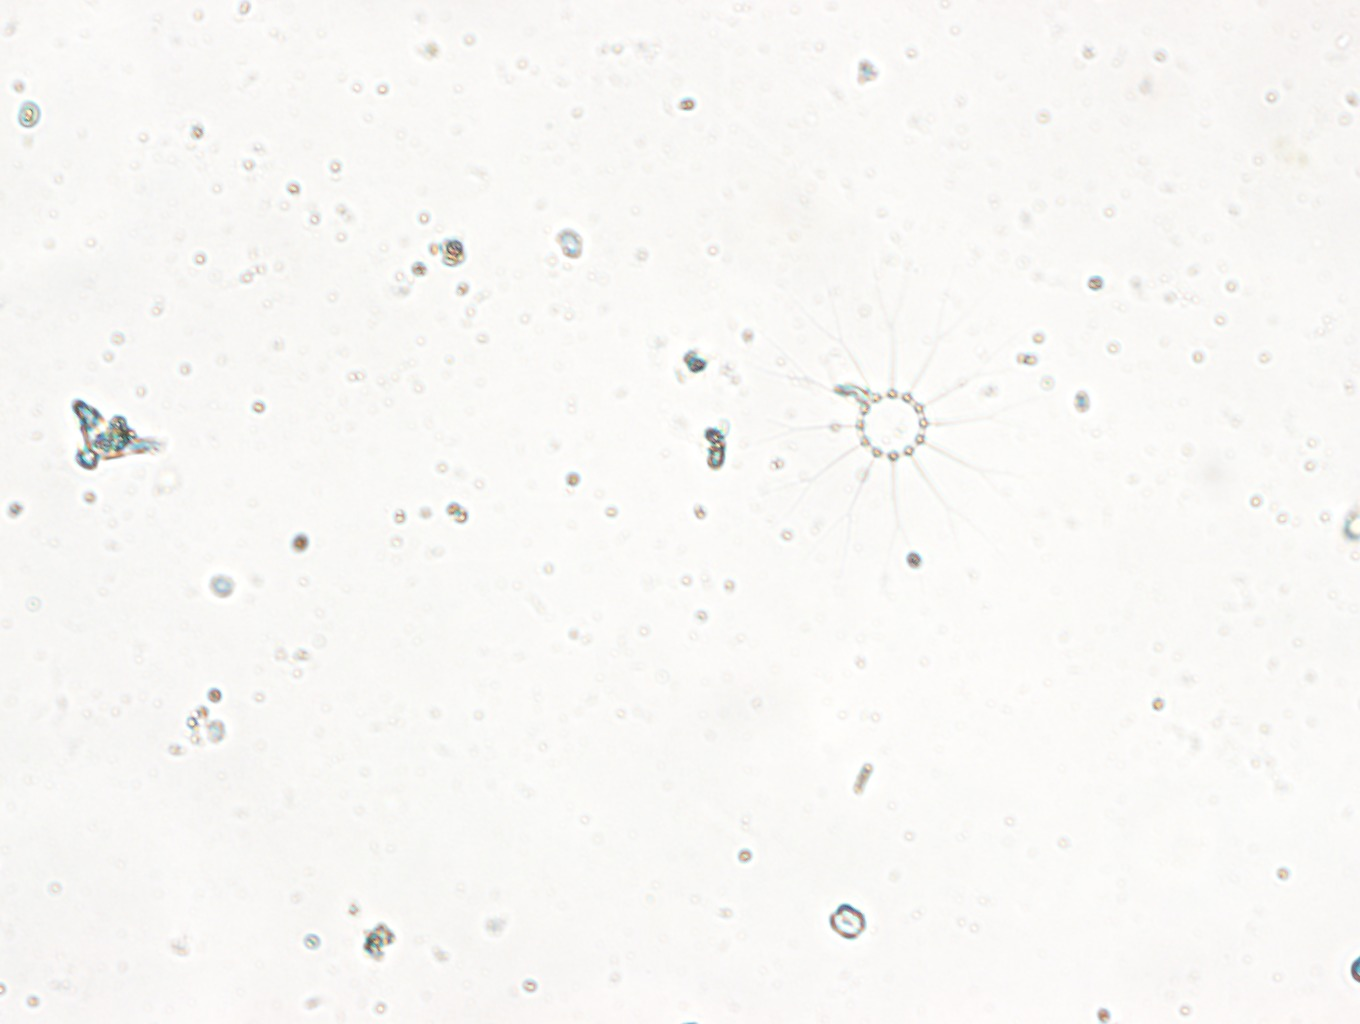helicotheca: (748, 266, 1023, 546)
